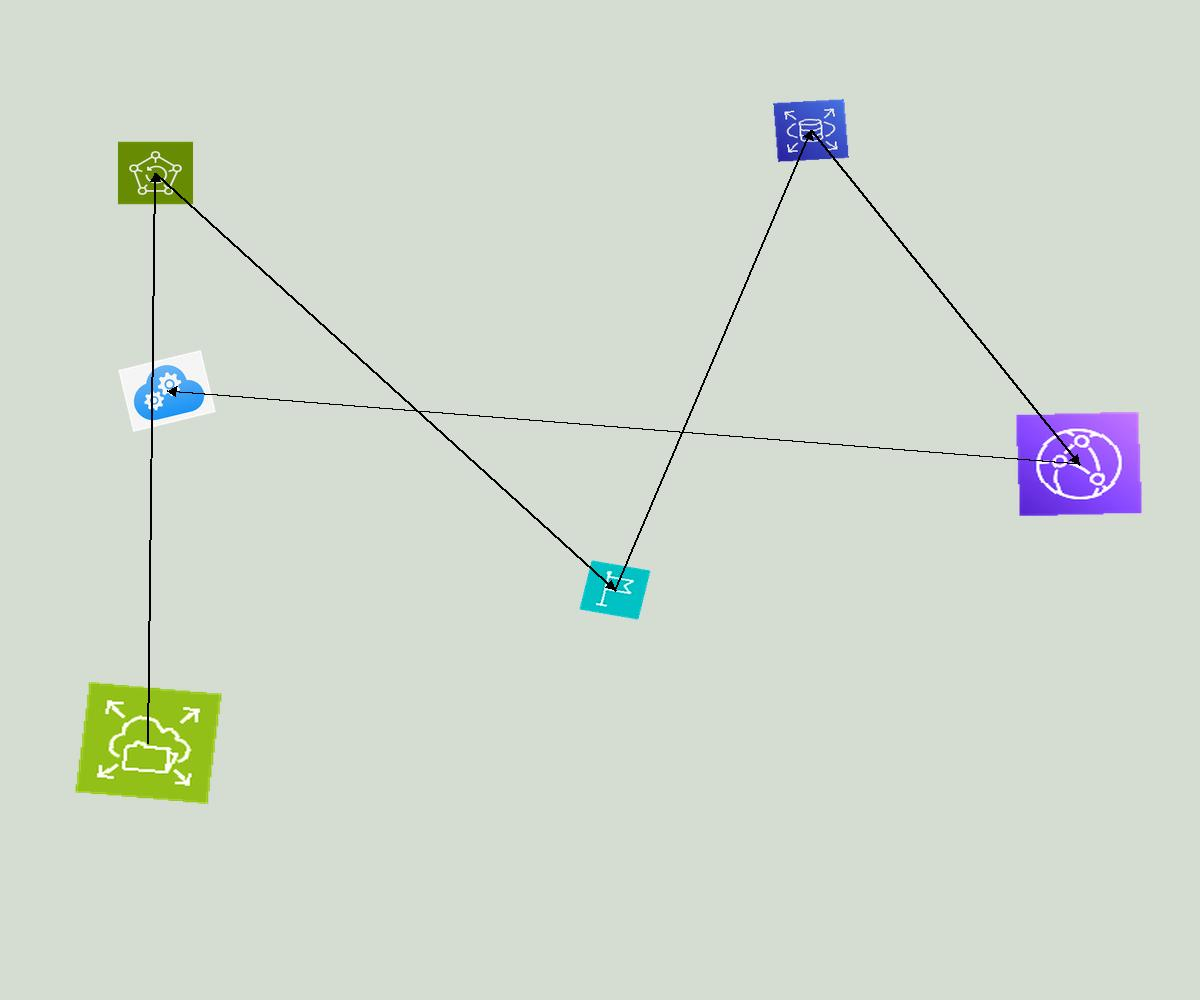AWS-Backup: (117, 141, 194, 205)
AWS-CloudFront: (1015, 411, 1143, 517)
AWS-EFS: (74, 681, 223, 805)
AWS-RDS: (773, 99, 849, 162)
AWS-Region: (579, 560, 651, 620)
Azure_cloud_services: (118, 350, 216, 432)
